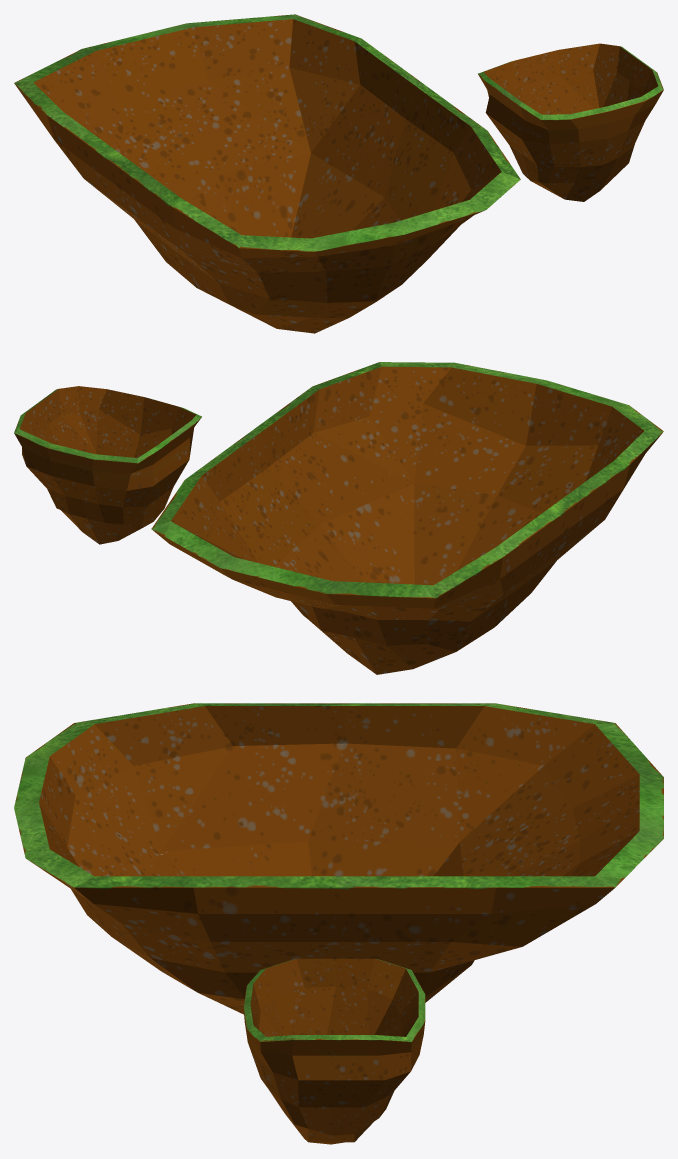
Rendered from Water Islands.fbx.
3 views of the same model, one above another, from view 1: azimuth 30°, elevation 25°; view 2: azimuth 150°, elevation 25°; view 3: azimuth 270°, elevation 25° (orthographic). The views are drawn at different scales.
Visible parts, largest first — view 1: Water Island, Water Island Mini; view 2: Water Island, Water Island Mini; view 3: Water Island, Water Island Mini.
Part boxes in pixels (x1,y1,x2,y2): Water Island: [14, 14, 520, 333]; Water Island Mini: [478, 43, 663, 201]; Water Island: [151, 362, 663, 674]; Water Island Mini: [14, 386, 201, 544]; Water Island: [14, 703, 663, 1014]; Water Island Mini: [243, 958, 425, 1144].
Bounding box in the file's own units: 1750 × 594 × 1561.
